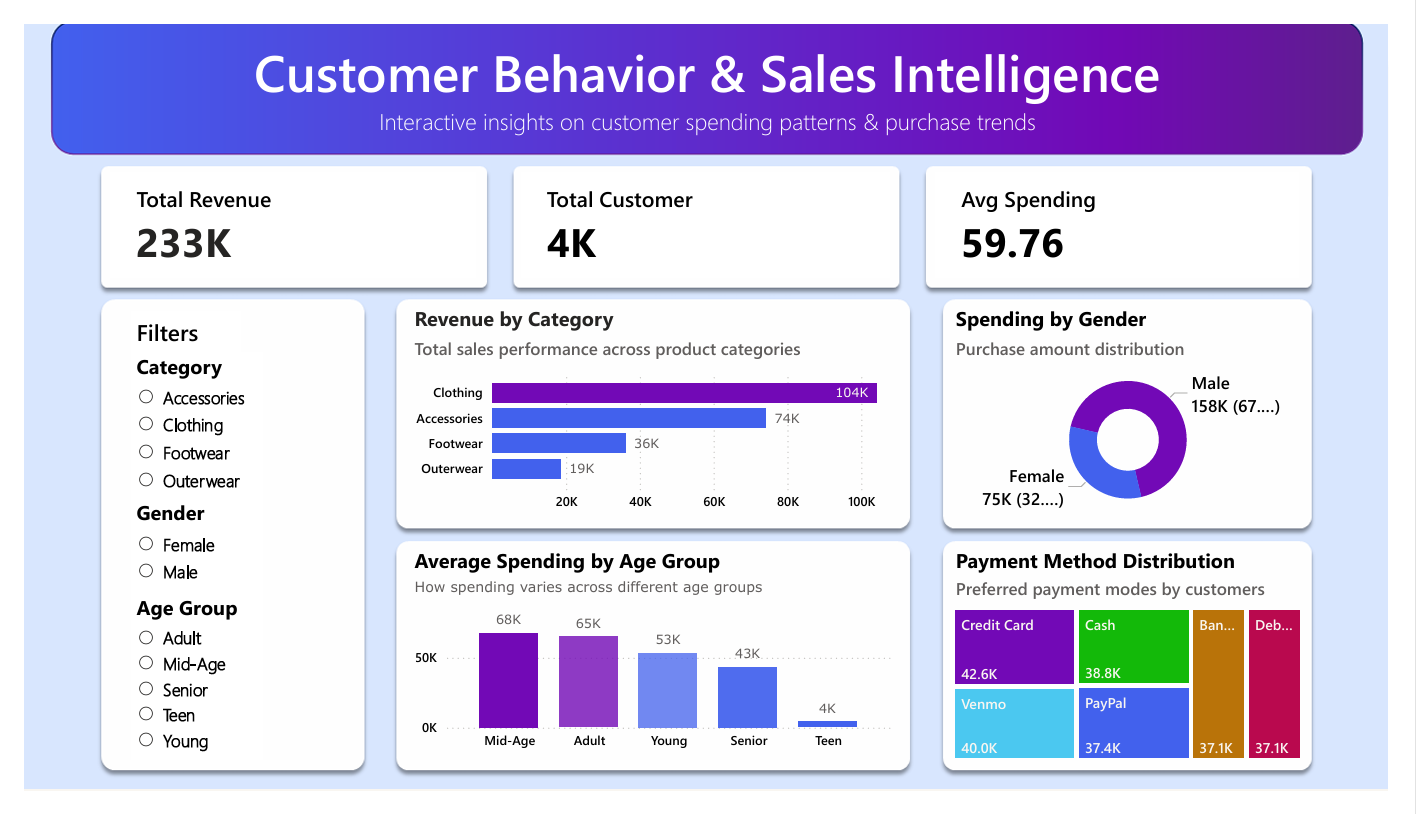

What the dashboard file says about the page in this screenshot:
{"tool":"powerbi","page":{"name":"Page 2","canvas":[1280,720],"ordinal":0},"visuals":[{"type":"cardVisual","fields":{"Data":["cleaned_sales_data.Total Revenue"]},"box":[75.8,133.9,353.2,109.7],"z":0},{"type":"cardVisual","fields":{"Data":["cleaned_sales_data.Total Customer"]},"box":[461.3,133.9,356.5,109.7],"z":1000},{"type":"cardVisual","fields":{"Data":["cleaned_sales_data.Avg Spending"]},"box":[850,133.9,351.6,109.7],"z":2000},{"type":"listSlicer","title":"Category","fields":{"Values":["cleaned_sales_data.category"]},"box":[100,308.1,122.6,137.1],"z":3000},{"type":"listSlicer","title":"Gender","fields":{"Values":["cleaned_sales_data.gender"]},"box":[100,445.2,122.6,88.7],"z":4000},{"type":"listSlicer","title":"Age Group","fields":{"Values":["cleaned_sales_data.age_group"]},"box":[100,533.9,122.6,156.5],"z":5000},{"type":"textbox","box":[100,269.4,103.2,38.7],"z":6000},{"type":"clusteredBarChart","title":"Revenue by Category","fields":{"Category":["cleaned_sales_data.category"],"Y":["Sum(cleaned_sales_data.purchase_amount)"]},"box":[361.3,262.9,456.5,203.2],"z":7000},{"type":"clusteredColumnChart","title":"Average Spending by Age Group","fields":{"Category":["cleaned_sales_data.age_group"],"Y":["Sum(cleaned_sales_data.purchase_amount)"]},"box":[361.3,490.3,456.5,200],"z":8000},{"type":"donutChart","title":"Spending by Gender","fields":{"Category":["cleaned_sales_data.gender"],"Y":["Sum(cleaned_sales_data.purchase_amount)"]},"box":[869.4,262.9,332.3,203.2],"z":9000},{"type":"treemap","title":"Payment Method Distribution","fields":{"Group":["cleaned_sales_data.payment_method"],"Values":["Sum(cleaned_sales_data.purchase_amount)"]},"box":[869.4,490.3,332.3,203.2],"z":10000},{"type":"textbox","box":[50,6.5,1182.3,75.8],"z":11000},{"type":"textbox","box":[212.9,71,856.5,43.5],"z":12000}]}

Visuals, with their boxes in screenshot pixels (x1, y1, x2, y2), scaled from the page's 1280x720 canvas onto the 1416x814 screenshot:
cardVisual - cleaned_sales_data.Total Revenue: (84, 151, 475, 275)
cardVisual - cleaned_sales_data.Total Customer: (510, 151, 905, 275)
cardVisual - cleaned_sales_data.Avg Spending: (940, 151, 1329, 275)
"Category" listSlicer: (111, 348, 246, 503)
"Gender" listSlicer: (111, 503, 246, 604)
"Age Group" listSlicer: (111, 604, 246, 781)
textbox: (111, 305, 225, 348)
"Revenue by Category" clusteredBarChart: (400, 297, 905, 527)
"Average Spending by Age Group" clusteredColumnChart: (400, 554, 905, 780)
"Spending by Gender" donutChart: (962, 297, 1329, 527)
"Payment Method Distribution" treemap: (962, 554, 1329, 784)
textbox: (55, 7, 1363, 93)
textbox: (236, 80, 1183, 129)
